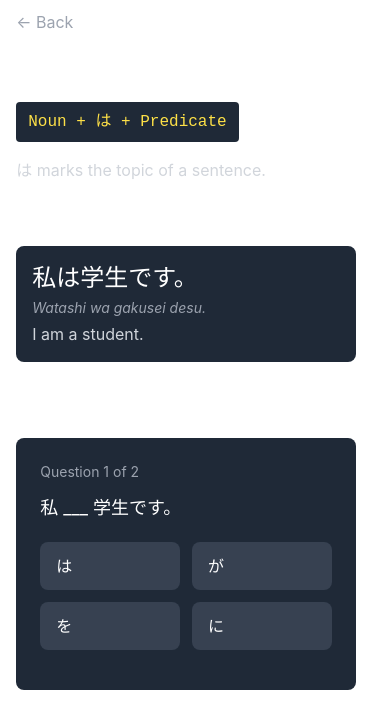
Test case: GrammarDetailPage › shows Correct feedback when correct option is clicked
Click the button "は".
click(110, 566)  # box [40,542,180,590]
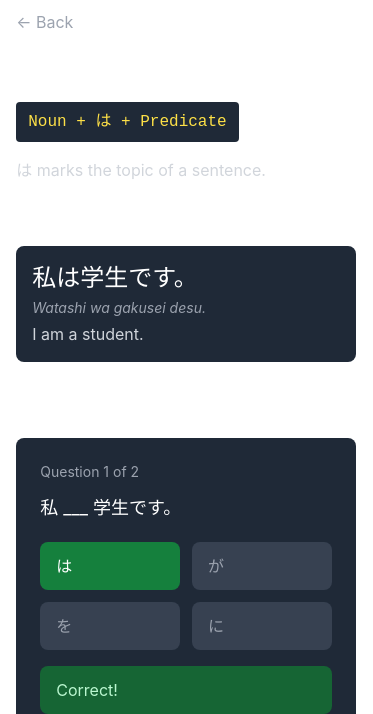
Expected: the text "Correct!" is shown, [40,666,332,713]
